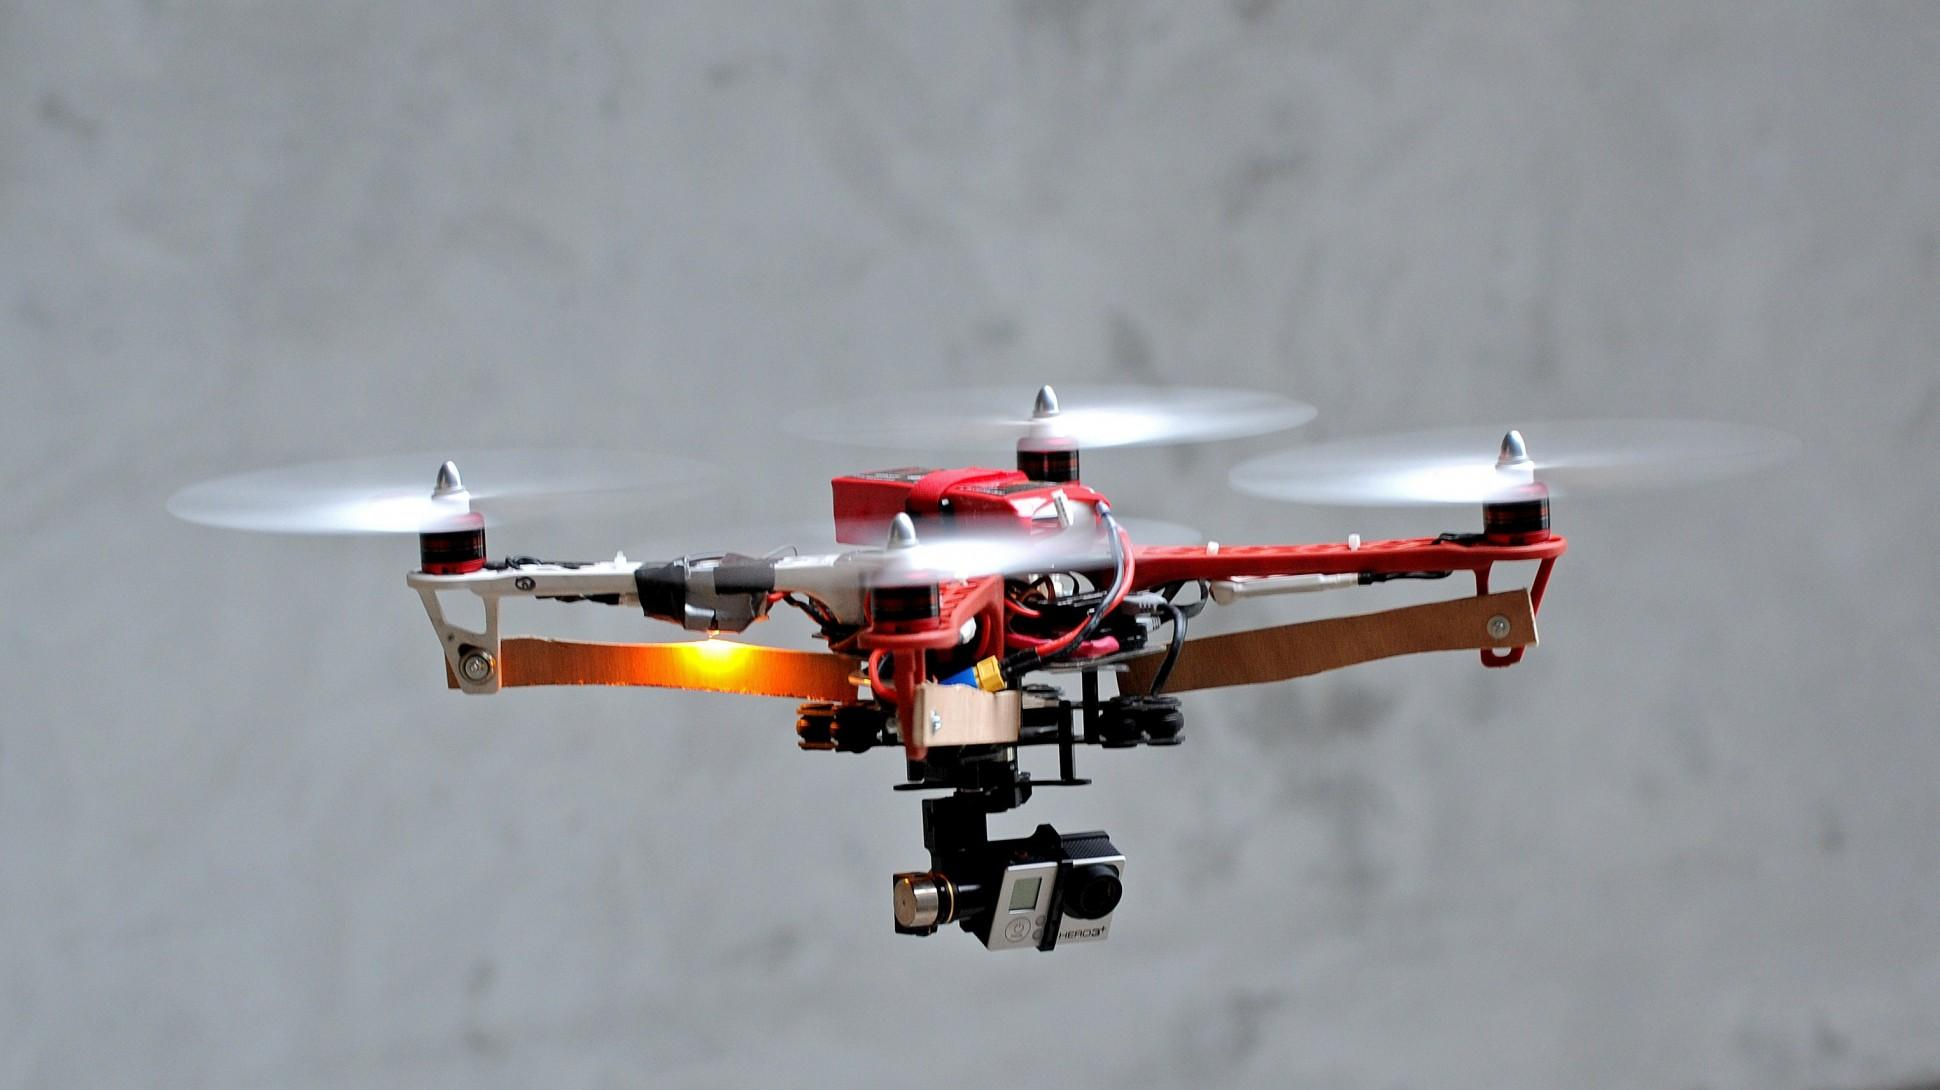drone: (163, 372, 1805, 958)
